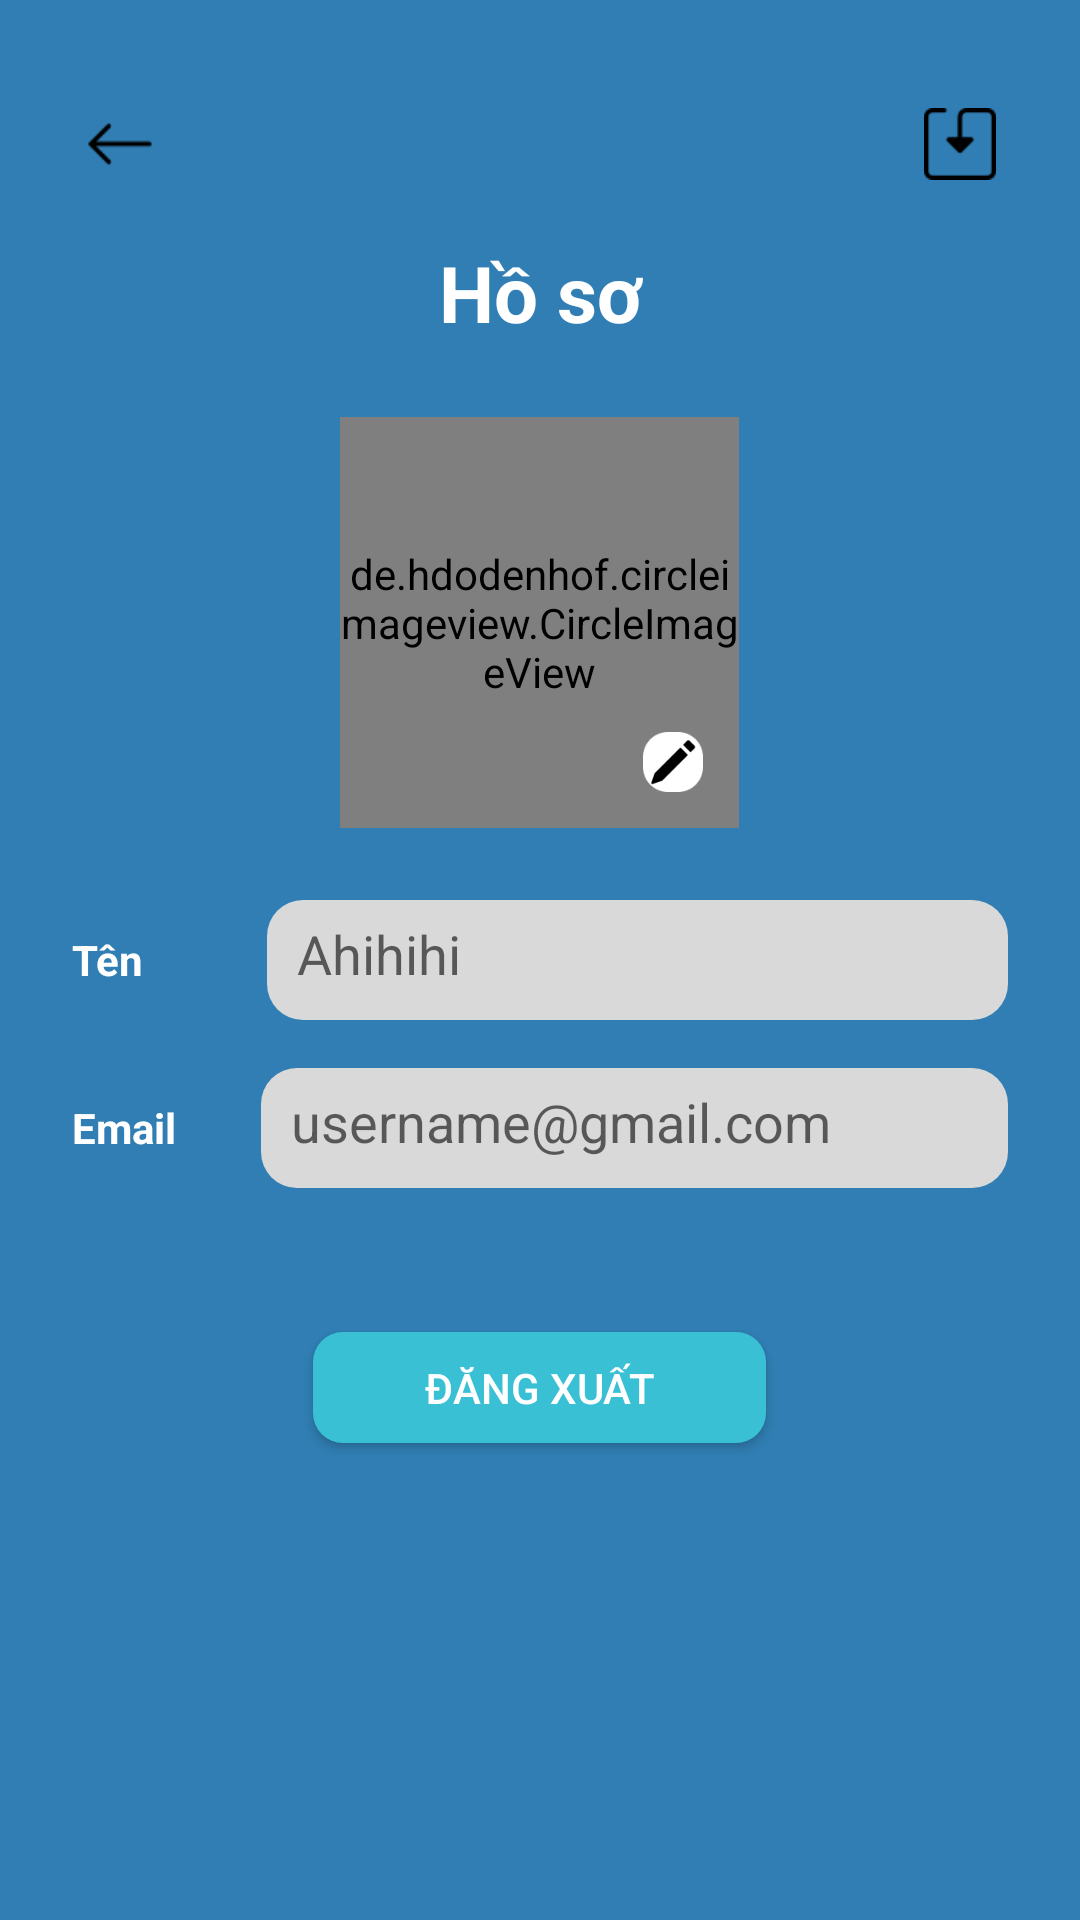

Named icons in this screenshot (1080px x 1920px) and their centers, (x=x, y=y):
edit: (x=673, y=762)
Lưu: (x=960, y=144)
Quay lại: (x=120, y=144)
